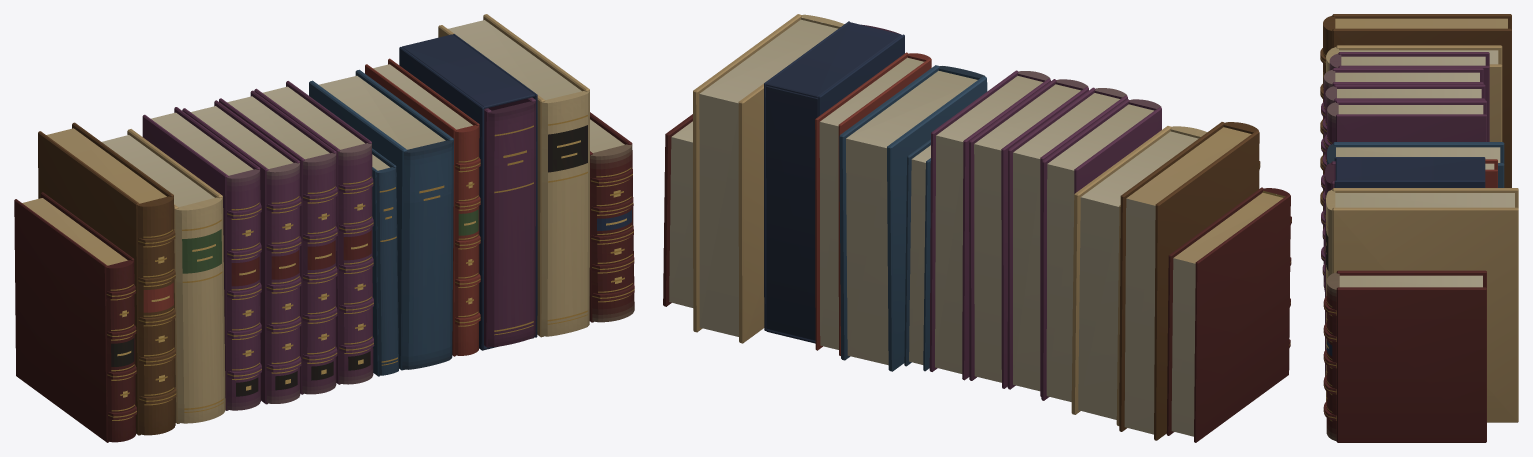
Rendered from book-row-packed.glb.
3 renders of one model, left to right at view 1: azimuth 30°, elevation 25°; view 2: azimuth 150°, elevation 25°; view 3: azimuth 270°, elevation 25°, orthographic. The views are drawn at different scales.
Parts seen in each view (by area): view 1: book_row_packed; view 2: book_row_packed; view 3: book_row_packed.
Part boxes in pixels (x1,y1,x2,y2): book_row_packed: (14, 14, 634, 442); book_row_packed: (663, 14, 1291, 442); book_row_packed: (1320, 14, 1518, 442).
Size of the model in its own units: 0.5963 by 0.2612 by 0.2137.
